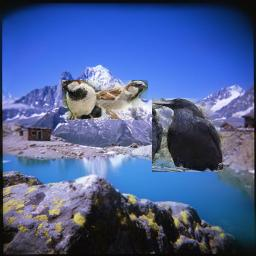Crow: (152, 98, 223, 172)
Sparrow: (62, 80, 148, 120)
